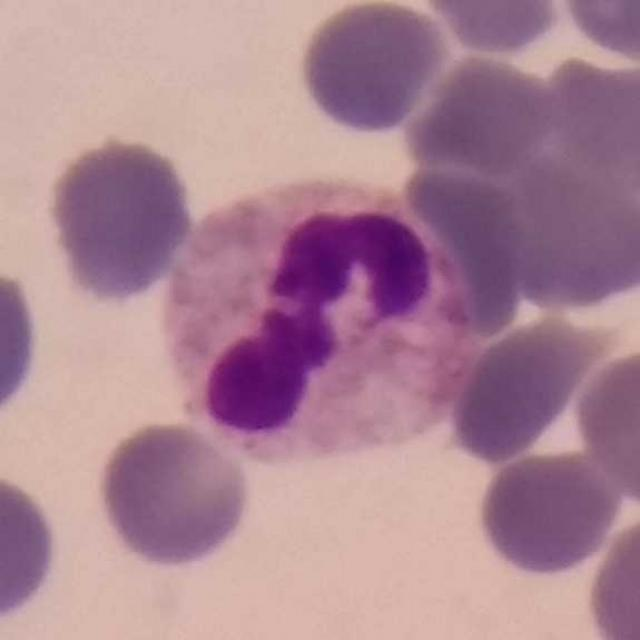Neutrophil: (162, 178, 472, 476)
RBC: (41, 132, 198, 308), (442, 312, 618, 468), (405, 146, 548, 332), (91, 416, 255, 572), (502, 151, 640, 316), (294, 0, 448, 138), (473, 446, 624, 581), (399, 51, 560, 177), (541, 53, 640, 186), (571, 342, 640, 511), (0, 467, 63, 629), (418, 0, 566, 58), (0, 258, 46, 438), (582, 506, 640, 640), (555, 0, 640, 66)
